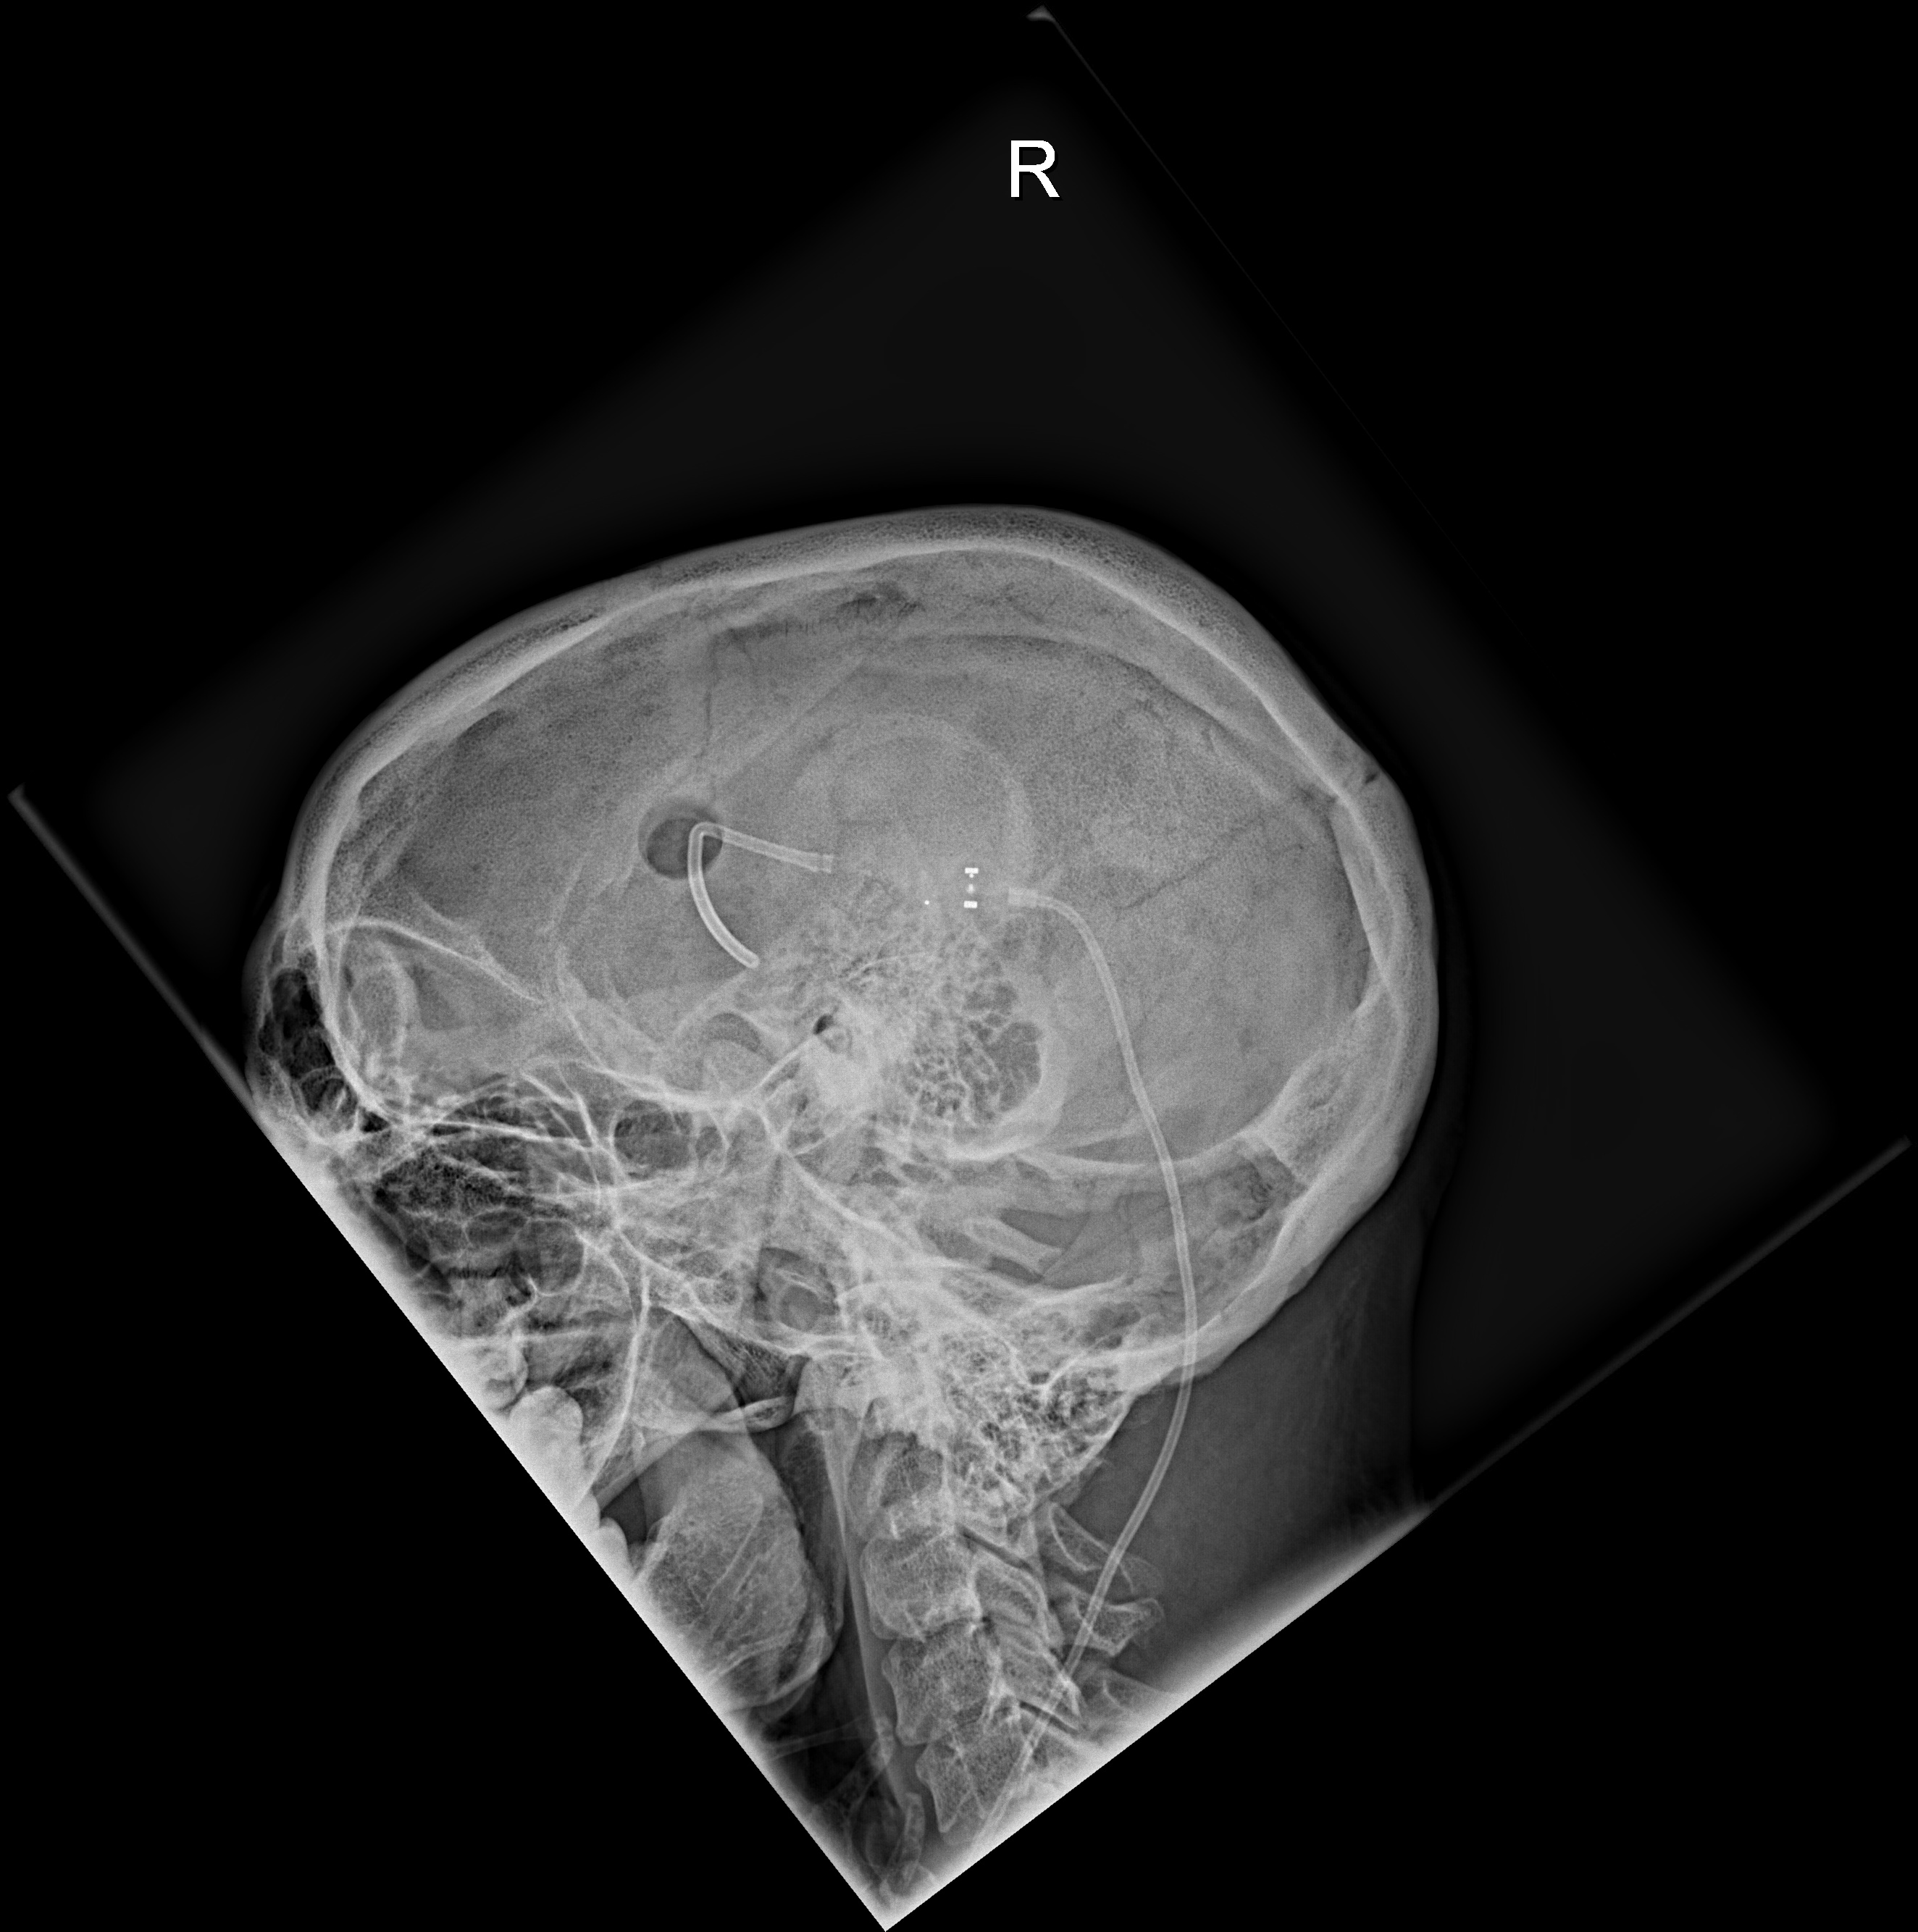Codman Certas: (910, 852, 1006, 936)
